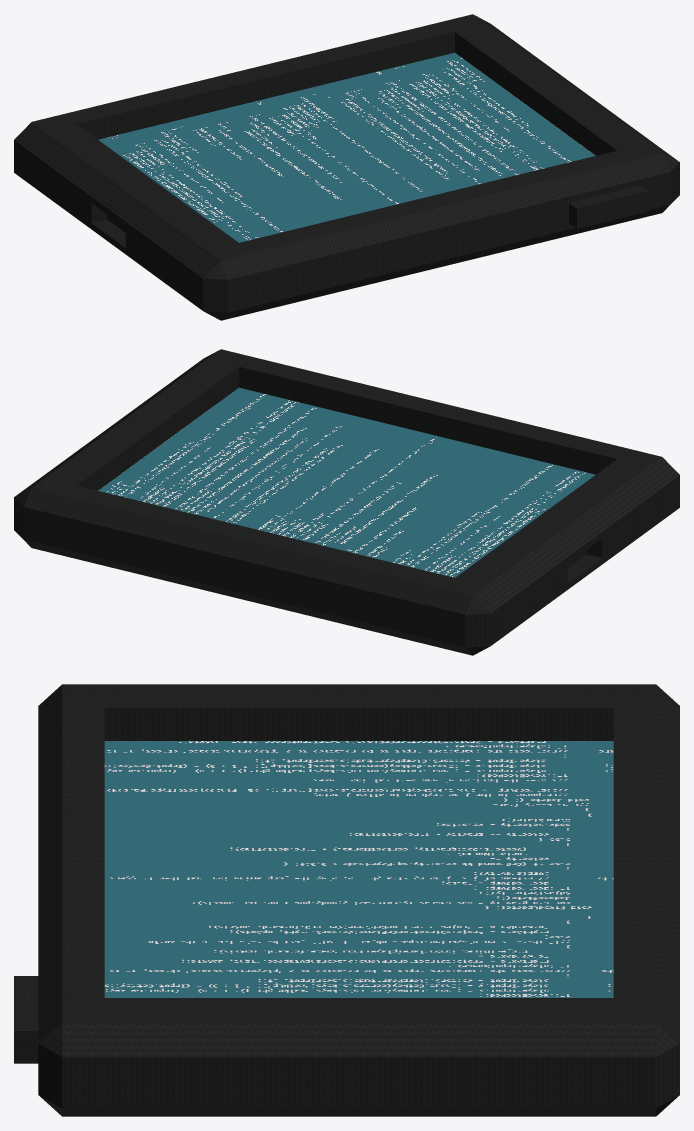
Rendered from datapad.fbx.
The picture shows the model from 3 angles, top to bottom: view 1: azimuth 30°, elevation 25°; view 2: azimuth 150°, elevation 25°; view 3: azimuth 270°, elevation 25°; orthographic projection. The views are drawn at different scales.
Visible parts, largest first — view 1: Cube; view 2: Cube; view 3: Cube.
Boxes of the visible parts, box(x1,y1,x2,y2) form: Cube: box(14, 14, 679, 320); Cube: box(14, 349, 679, 655); Cube: box(14, 684, 679, 1116).
Size of the model in its own units: 389 by 47.05 by 300.
